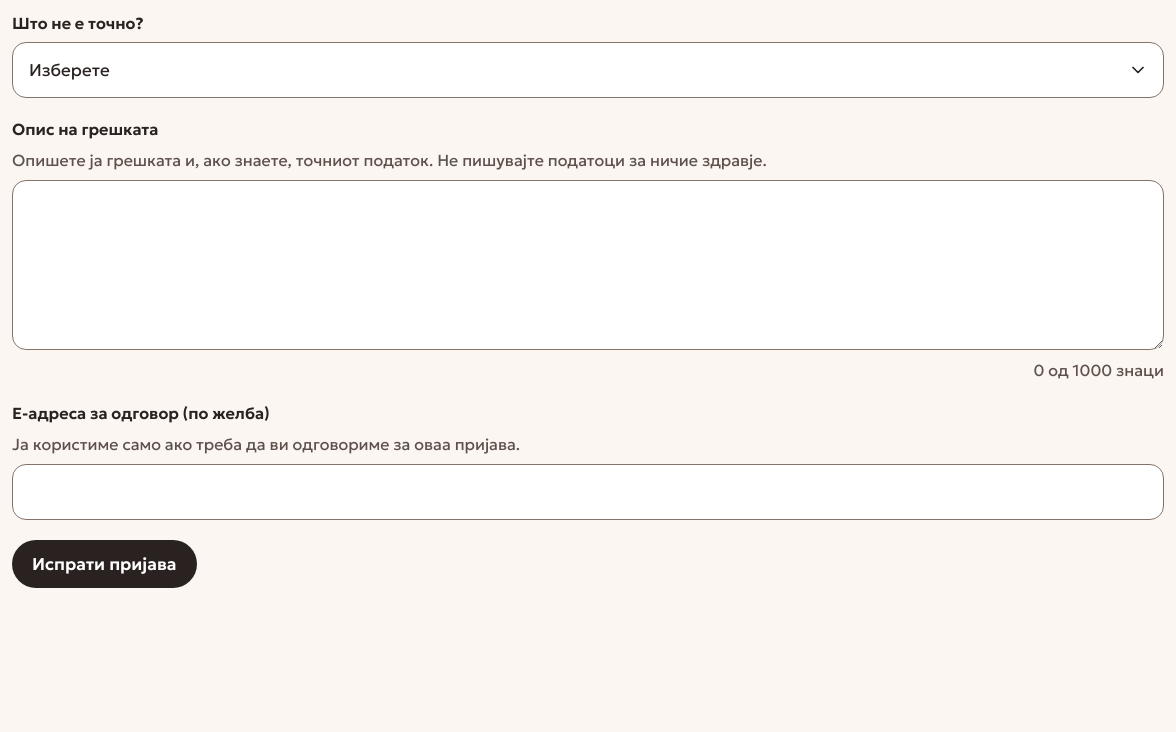
Scenario: ProfileCorrectionForm (correction) › says so when the address sent too many
Select "Име или назив" in the dropdown labelled "Што не е точно?" at (588, 70), box [12, 42, 1164, 98]
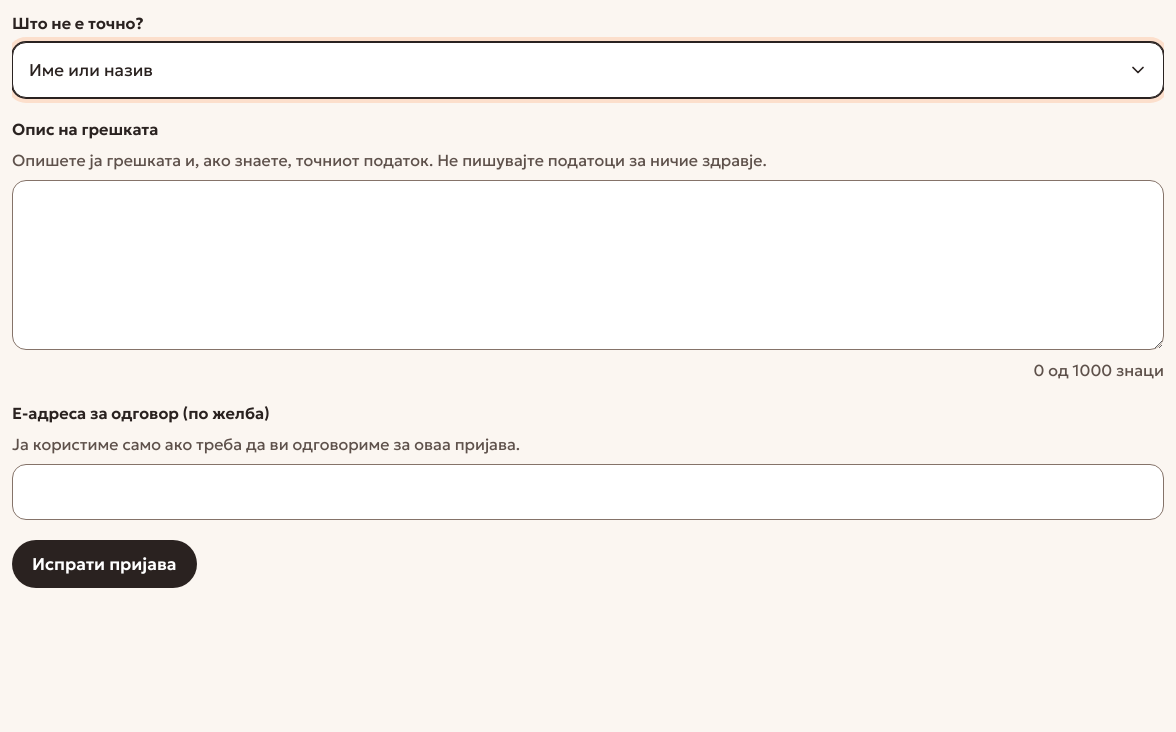
Type "Презимето е погрешно напишано." into the text box labelled "Опис на грешката".
click(588, 265); type("Презимето е погрешно напишано.")  # box [12, 180, 1164, 350]
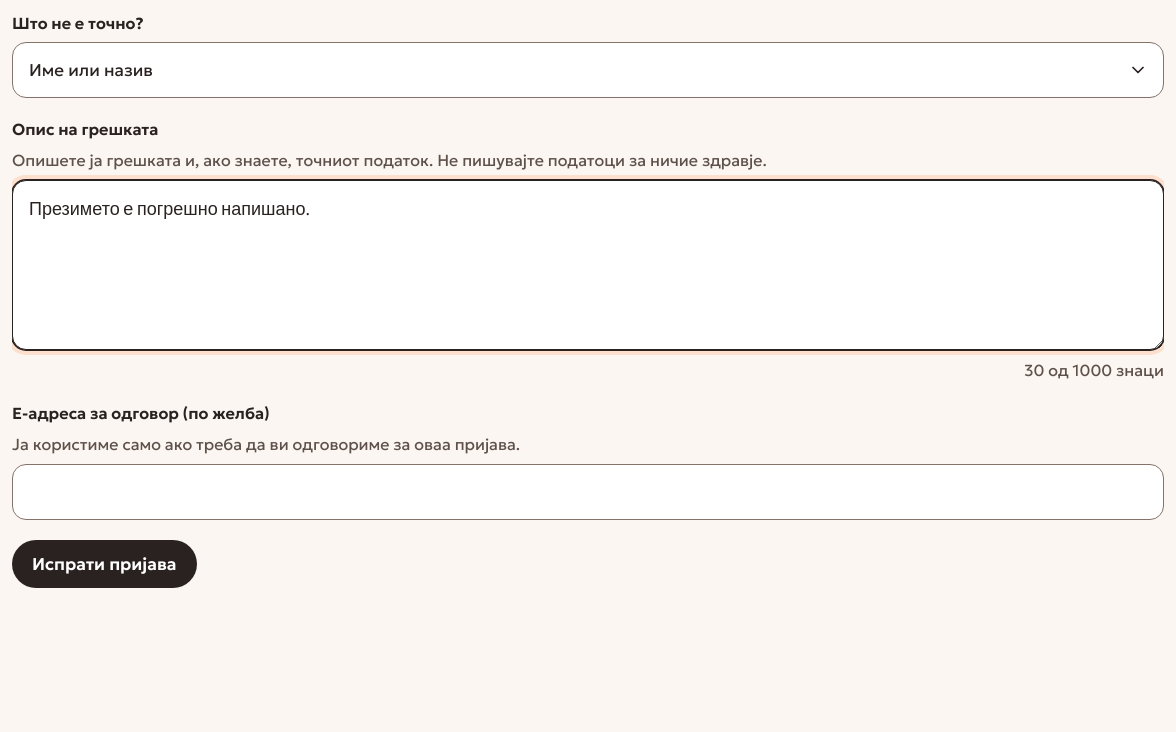
Click the button "Испрати пријава".
click(104, 564)  # box [12, 540, 196, 588]
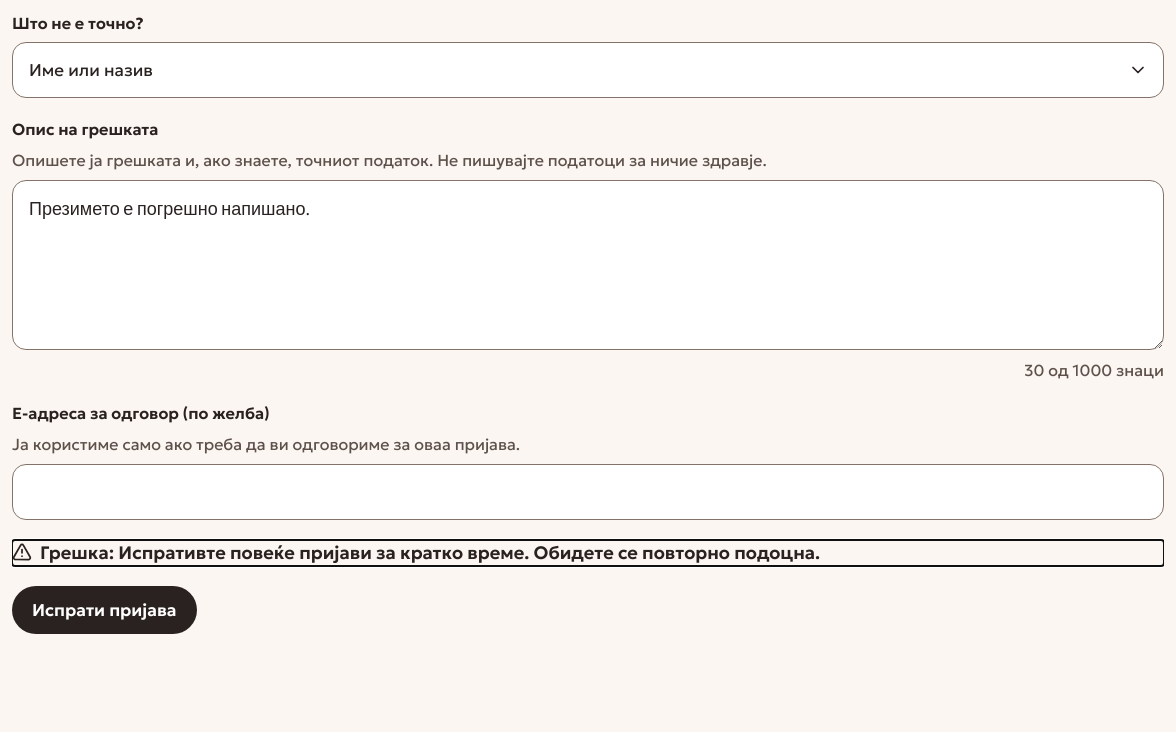
Check: the message shows "Испративте повеќе пријави за кратко време. Обидете се повторно подоцна.", box [118, 541, 820, 564]
